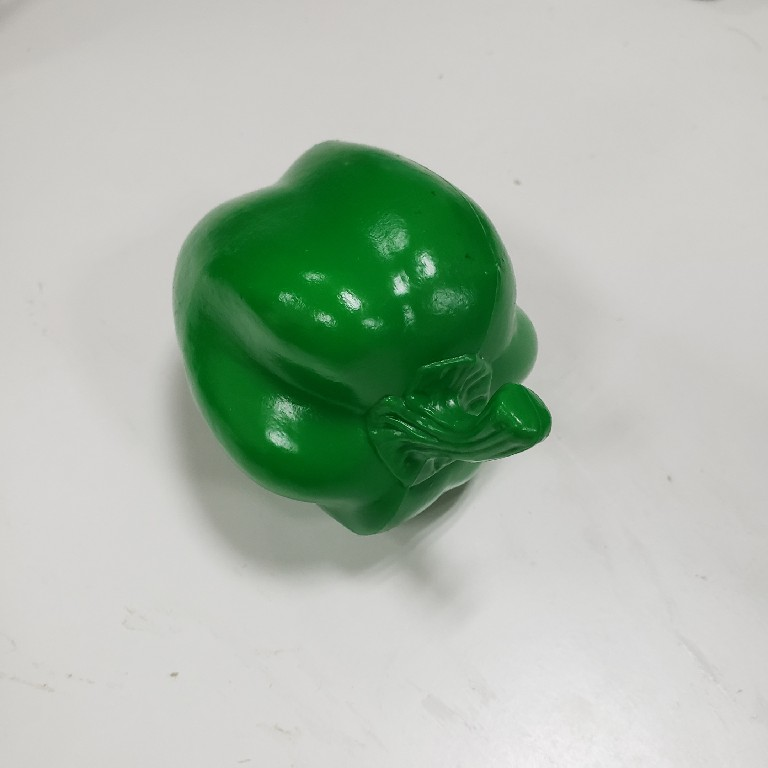fruit_pepper: (164, 135, 557, 539)
